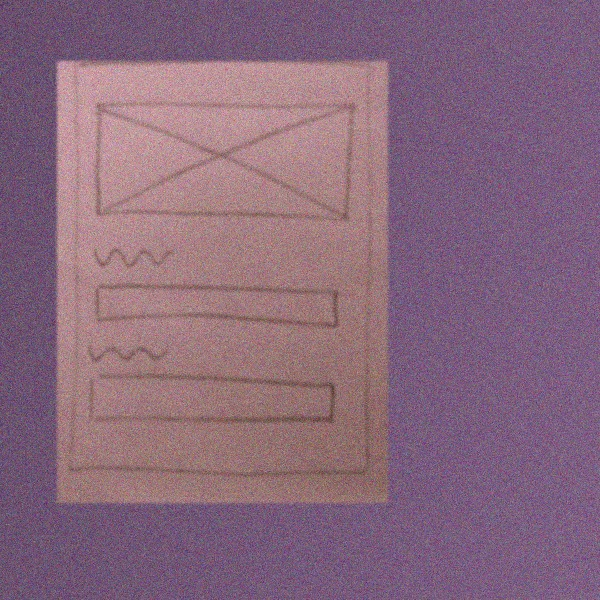image: (91, 98, 359, 224)
text: (89, 242, 175, 272), (86, 335, 172, 365)
text_input: (85, 371, 337, 426), (92, 281, 344, 331)
